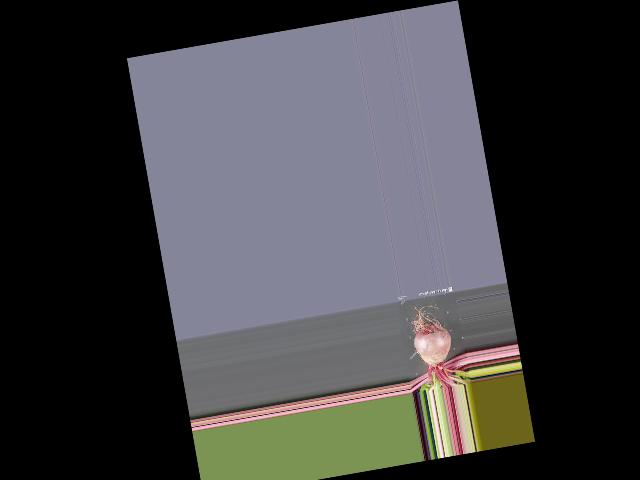beet: (406, 296, 471, 391)
